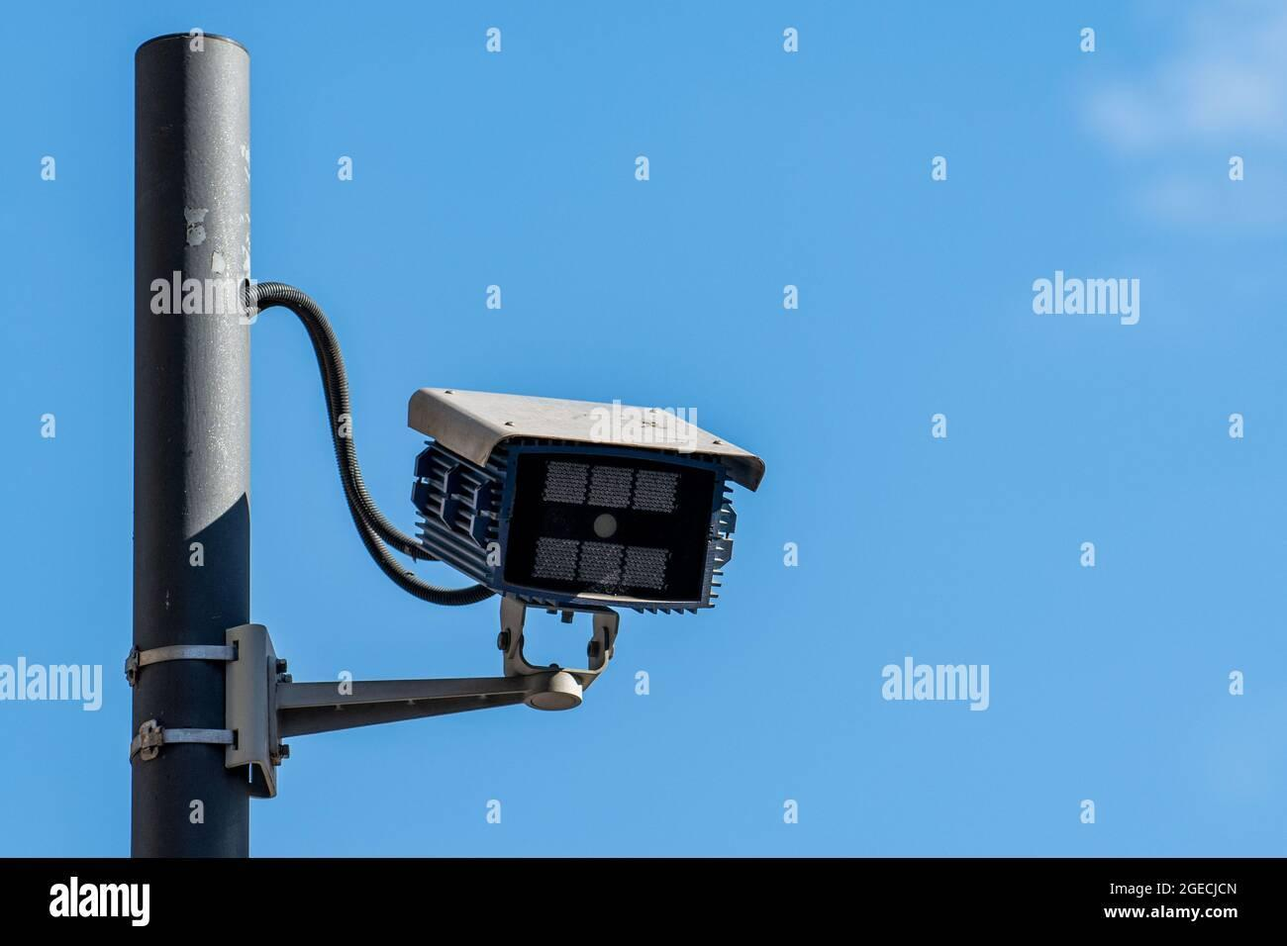Monitor: (406, 385, 765, 618)
